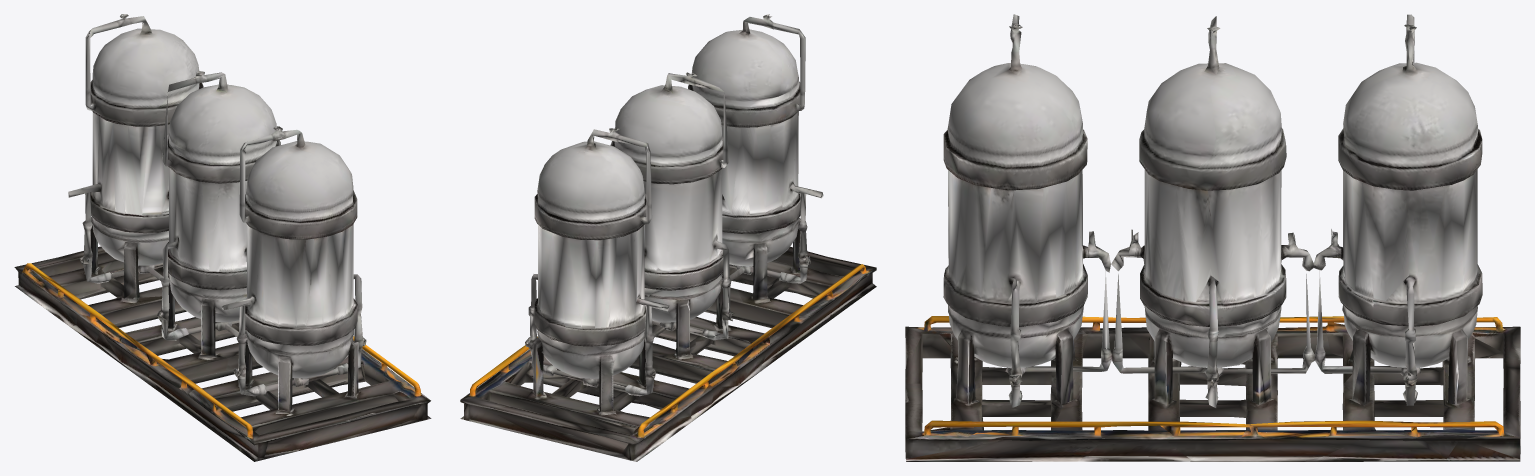
The model's file is bottleSkid.glb.
The picture shows the model from 3 angles, left to right: view 1: azimuth 30°, elevation 25°; view 2: azimuth 150°, elevation 25°; view 3: azimuth 270°, elevation 25°; orthographic projection. The views are drawn at different scales.
Visible parts, largest first — view 1: bottleSkid; view 2: bottleSkid; view 3: bottleSkid.
Boxes of the visible parts, x1=… form: bottleSkid: x1=14, y1=14, x2=431, y2=461; bottleSkid: x1=460, y1=14, x2=876, y2=461; bottleSkid: x1=905, y1=14, x2=1520, y2=461.
Size of the model in its own units: 2.99 by 4.6 by 7.
Materials: 1 (1 with a texture image).
